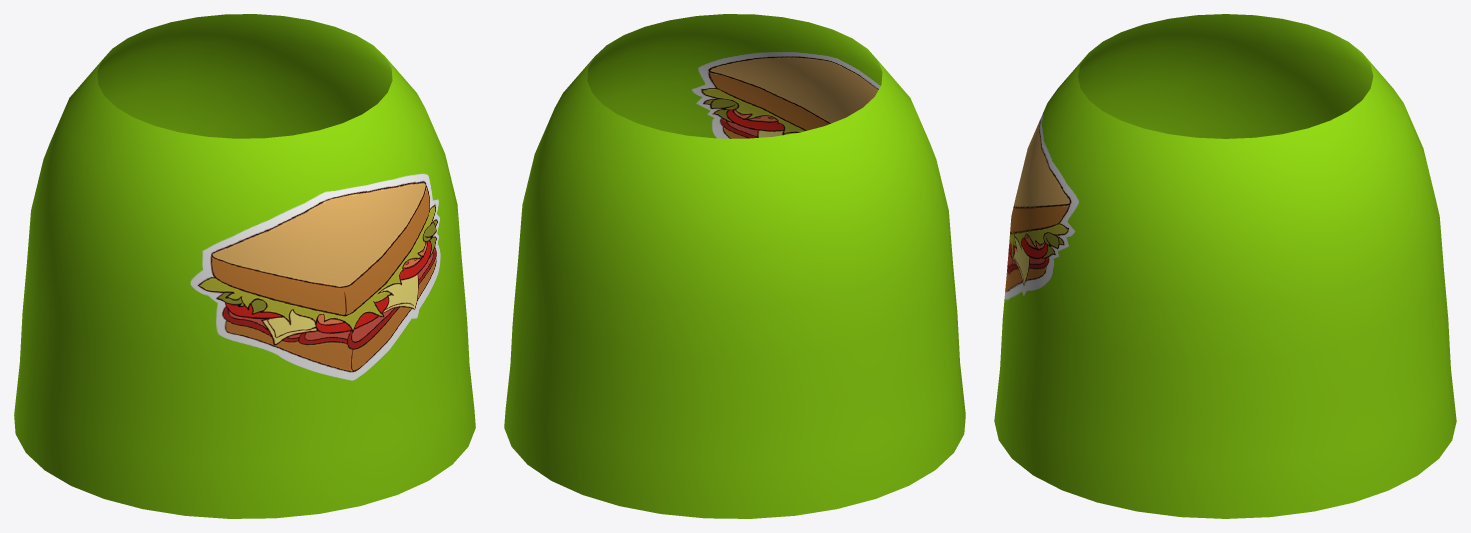
File: majica univerzalna 1.fbx
3 renders of one model, left to right at view 1: azimuth 30°, elevation 25°; view 2: azimuth 150°, elevation 25°; view 3: azimuth 270°, elevation 25°, orthographic.
Visible parts, largest first — view 1: Blue_2.011; view 2: Blue_2.011; view 3: Blue_2.011.
Boxes of the visible parts, x1,y1,x2,y2 form: Blue_2.011: (14, 14, 475, 518); Blue_2.011: (504, 14, 965, 518); Blue_2.011: (994, 14, 1456, 518).
Size of the model in its own units: 226 by 186 by 226.
1 material, 1 textured.
